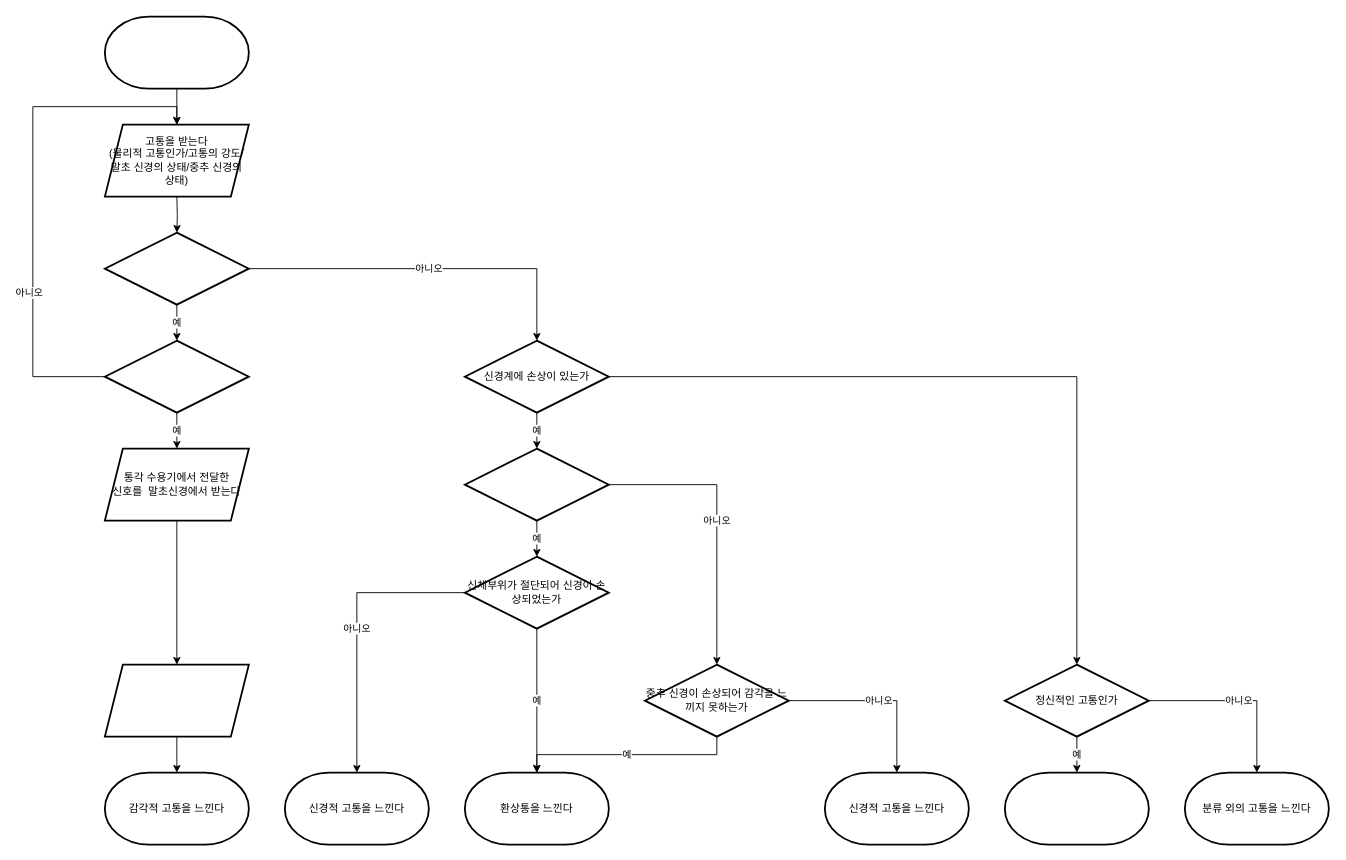
This 1346x860 diagram has some shape labels left out. The shapes that lost their labels are listed below. From the top down, each one's centre as x and y in pixels, then its label:
At point (176, 52): "시작".
At point (176, 268): "물리적인 통증으로부터 발생한 고통인가".
At point (176, 376): "역치 이상의 자극인가".
At point (536, 484): "말초 신경이 손상되었는가".
At point (176, 700): "말초 신경에서 전달한 신호를 중추신경에서 받는다".
At point (1076, 808): "정신적 고통을 느낀다".
